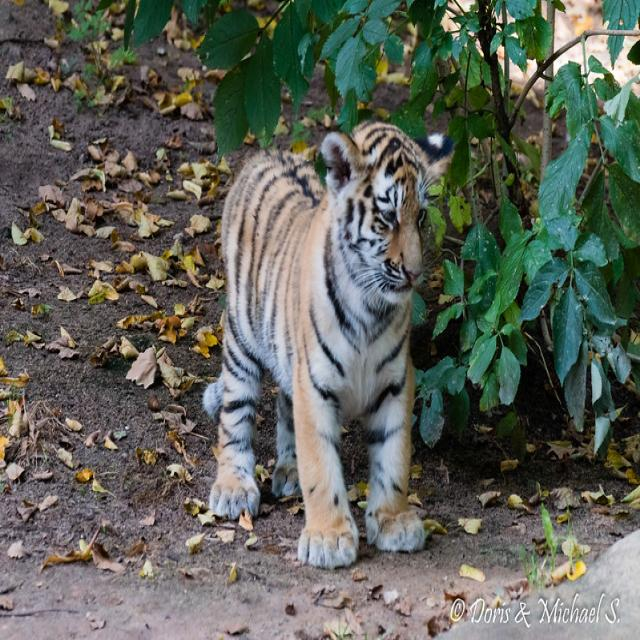Tiger: (189, 109, 449, 576)
